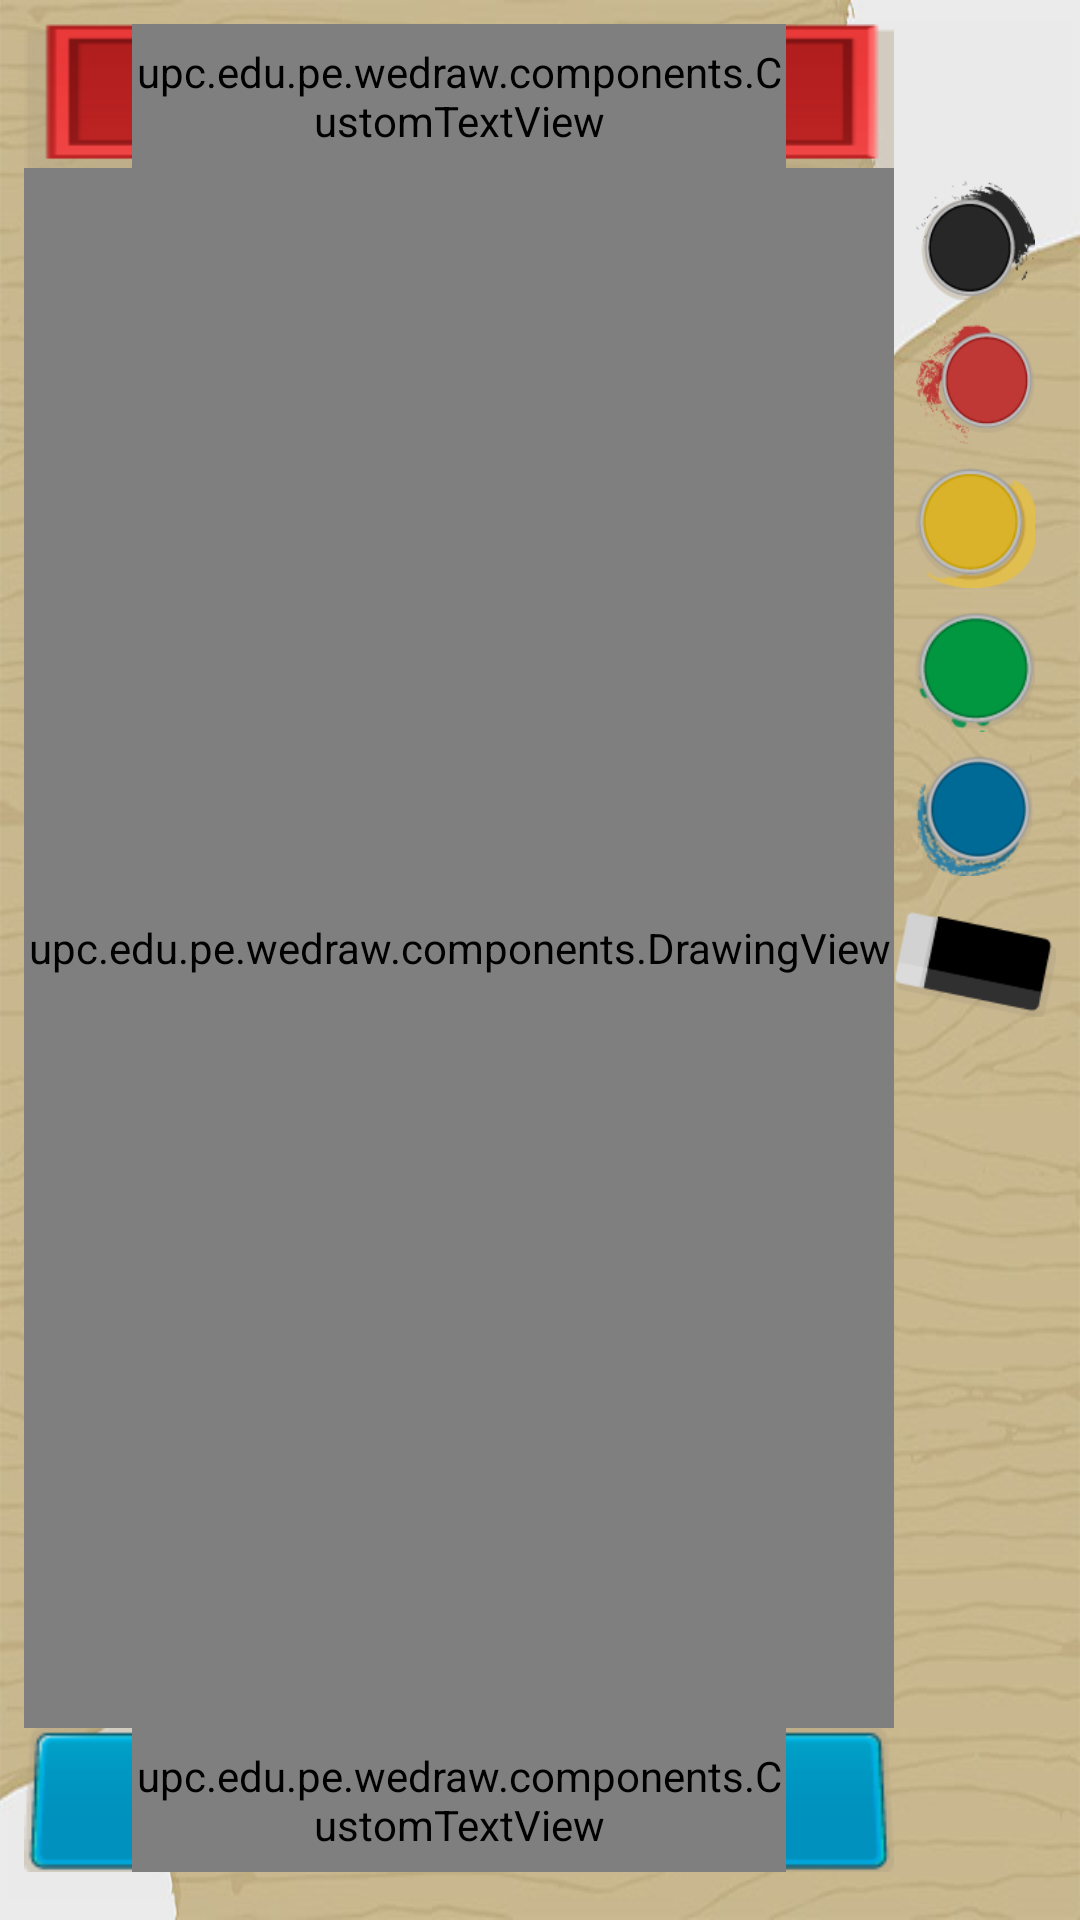

Icons on this 1080px x 1920px Android screen, each with its box as bbox=(x1, y1, x2, y2):
borrador: bbox=(895, 912, 1052, 1011)
paint amarillo: bbox=(918, 469, 1035, 588)
paint azul: bbox=(916, 756, 1031, 876)
paint negro: bbox=(916, 182, 1035, 300)
paint rojo: bbox=(915, 325, 1032, 442)
paint verde: bbox=(918, 614, 1033, 732)
